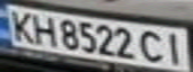2: (112, 25, 139, 61), (93, 21, 118, 57)
5: (75, 19, 96, 55)
8: (54, 17, 81, 52)
C: (139, 27, 169, 64)
H: (27, 12, 60, 47)
I: (160, 29, 190, 66)
K: (3, 7, 39, 43)
